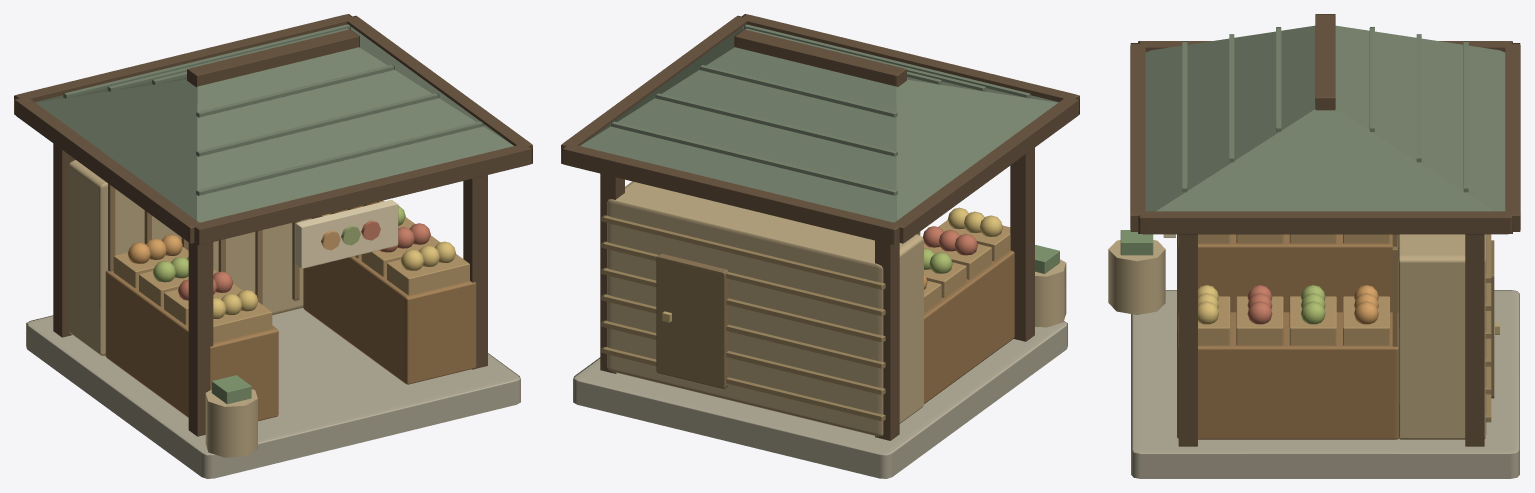
The model's file is grocer-0.glb.
3 renders of one model, left to right at view 1: azimuth 30°, elevation 25°; view 2: azimuth 150°, elevation 25°; view 3: azimuth 270°, elevation 25°, orthographic. The views are drawn at different scales.
Visible parts, largest first — view 1: grocer-0-0; view 2: grocer-0-0; view 3: grocer-0-0.
Part boxes in pixels (x1,y1,x2,y2): grocer-0-0: (14,14,532,478); grocer-0-0: (561,14,1079,478); grocer-0-0: (1108,14,1520,478).
Size of the model in its own units: 2.05 by 1.84 by 2.01.
